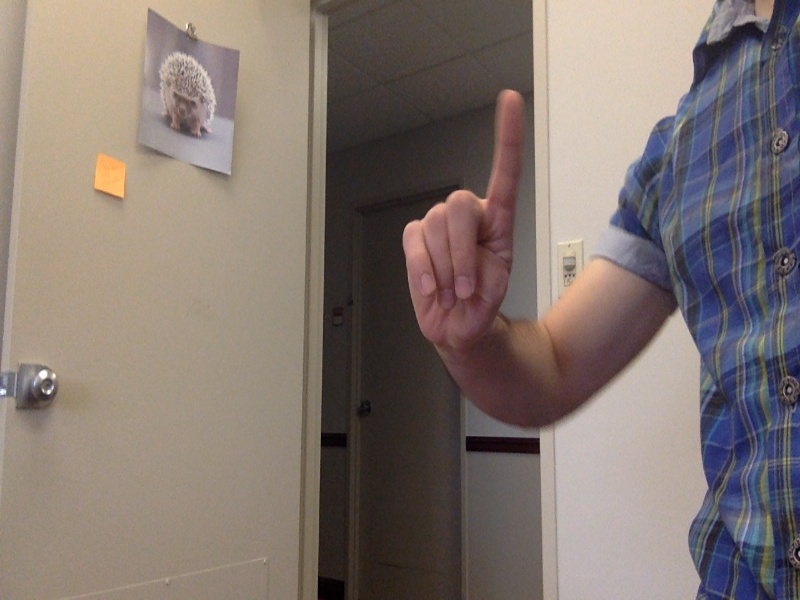1-hand: (396, 90, 532, 349)
